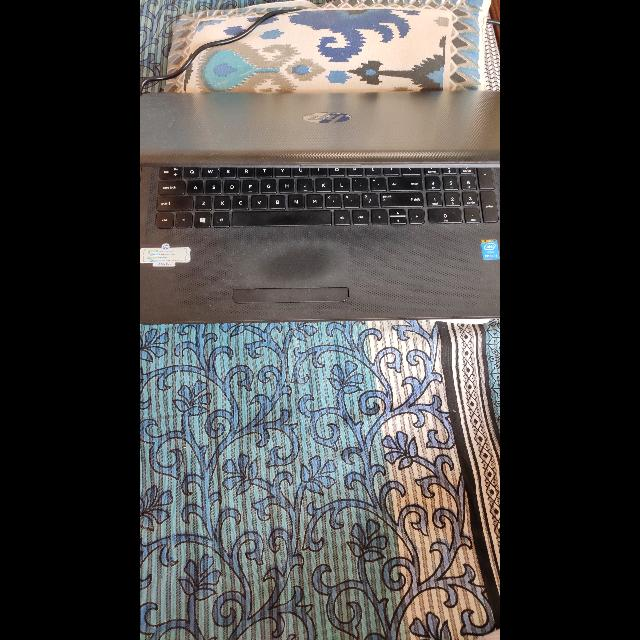Laptop: (185, 1, 329, 631)
